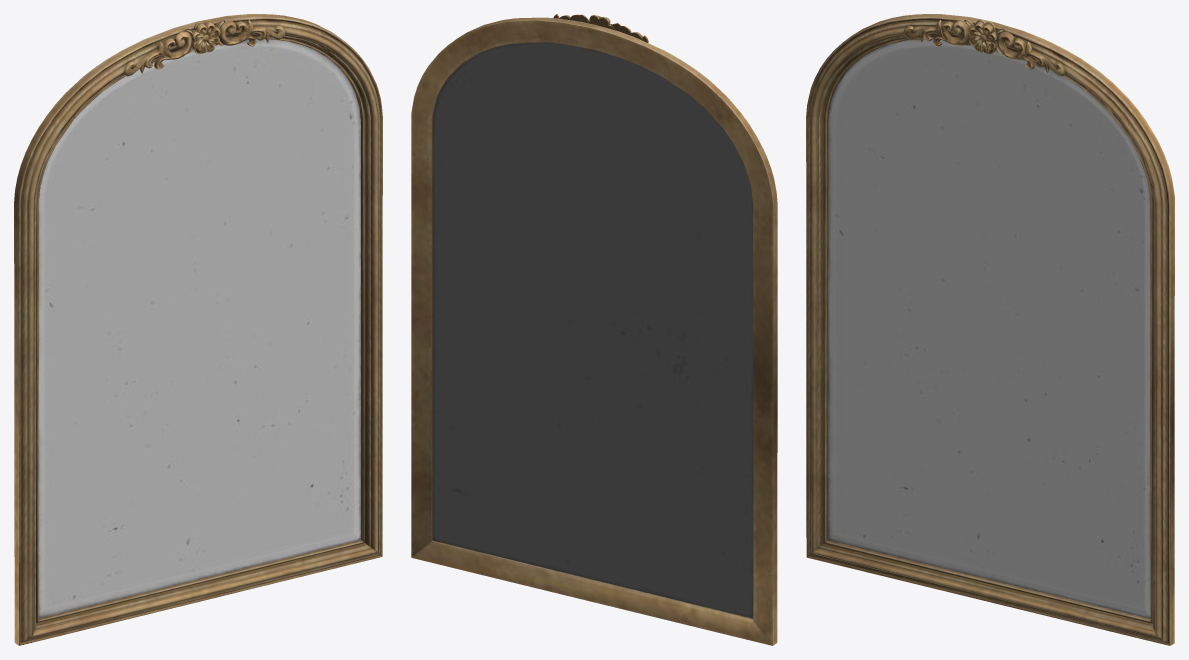
Rendered from ornate_mirror_01.glb.
3 views of the same model, side by side, from view 1: azimuth 30°, elevation 25°; view 2: azimuth 150°, elevation 25°; view 3: azimuth 330°, elevation 25° (orthographic).
Parts seen in each view (by area): view 1: ornate_mirror_01; view 2: ornate_mirror_01; view 3: ornate_mirror_01.
Boxes of the visible parts, <box> form: ornate_mirror_01: <box>14,14,382,645</box>; ornate_mirror_01: <box>411,14,777,645</box>; ornate_mirror_01: <box>806,14,1174,645</box>.
Bounding box in the file's own units: 0.4865 × 0.7442 × 0.026.
Materials: 1 (1 with a texture image).
